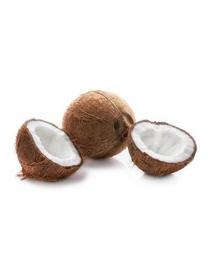coconut: (63, 89, 134, 161), (128, 119, 197, 179), (15, 120, 82, 181)
